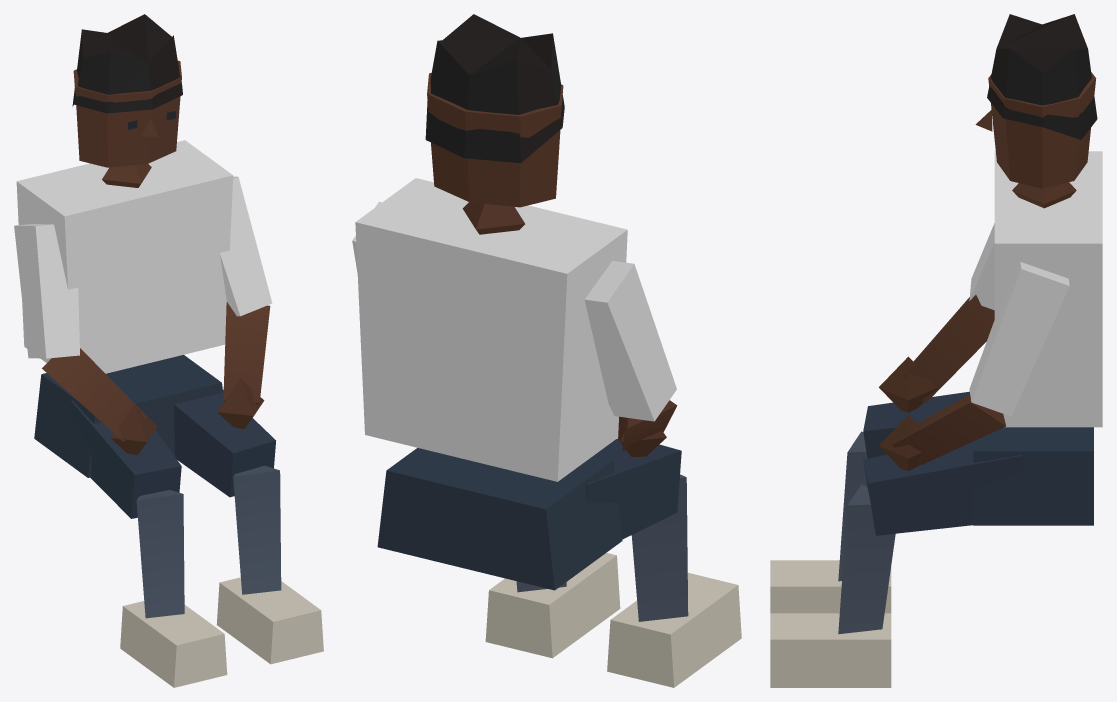
The model's file is fan-04.glb.
3 views of the same model, side by side, from view 1: azimuth 30°, elevation 25°; view 2: azimuth 150°, elevation 25°; view 3: azimuth 270°, elevation 25° (orthographic). The views are drawn at different scales.
Visible parts, largest first — view 1: fan-04; view 2: fan-04; view 3: fan-04.
Boxes of the visible parts, left/top/right/bottom form: fan-04: left=14, top=14, right=323, bottom=687; fan-04: left=352, top=14, right=741, bottom=687; fan-04: left=770, top=14, right=1102, bottom=687.
Bounding box in the file's own units: 0.6863 × 1.57 × 0.77.
